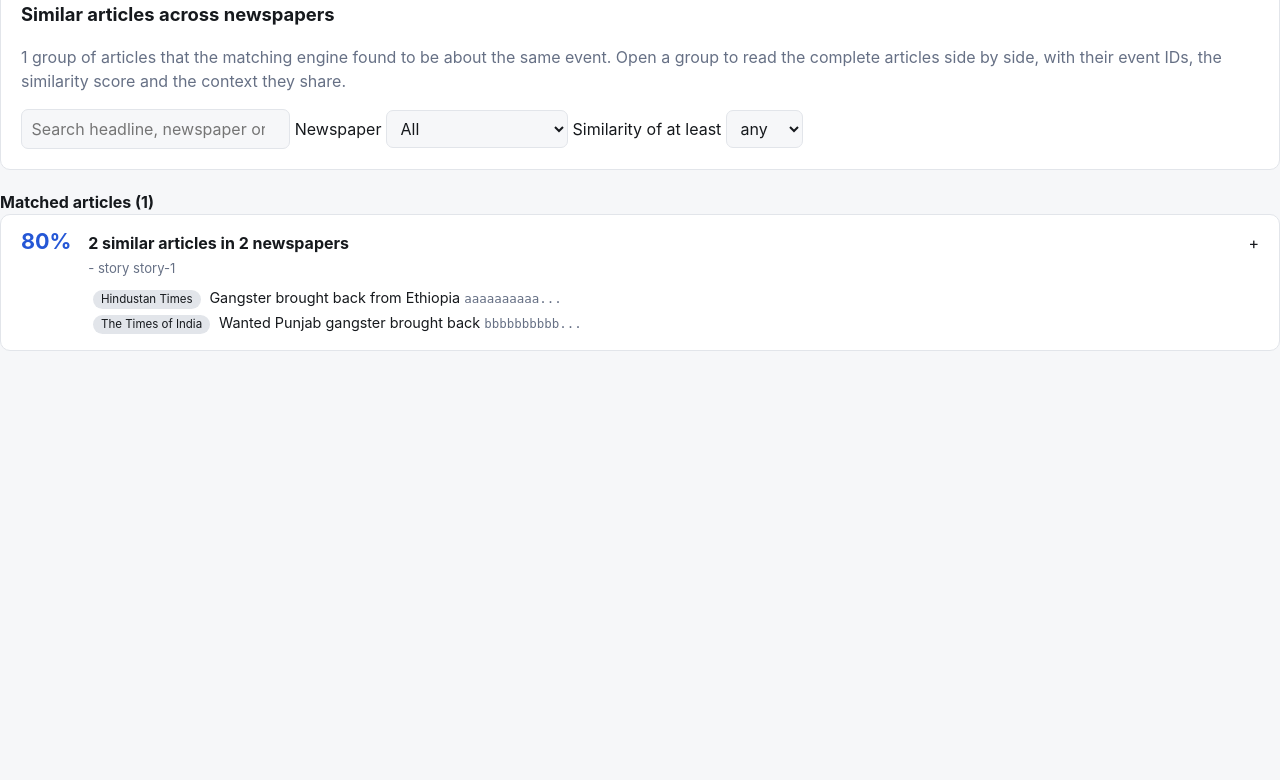
Test: SimilarArticles › opening a group shows both complete articles with their full event IDs, the score, the signals and the shared context
Step 1. Click the button "2 similar articles in 2 newspapers" → (640, 282), box [1,215,1279,350]
(page scrolled)
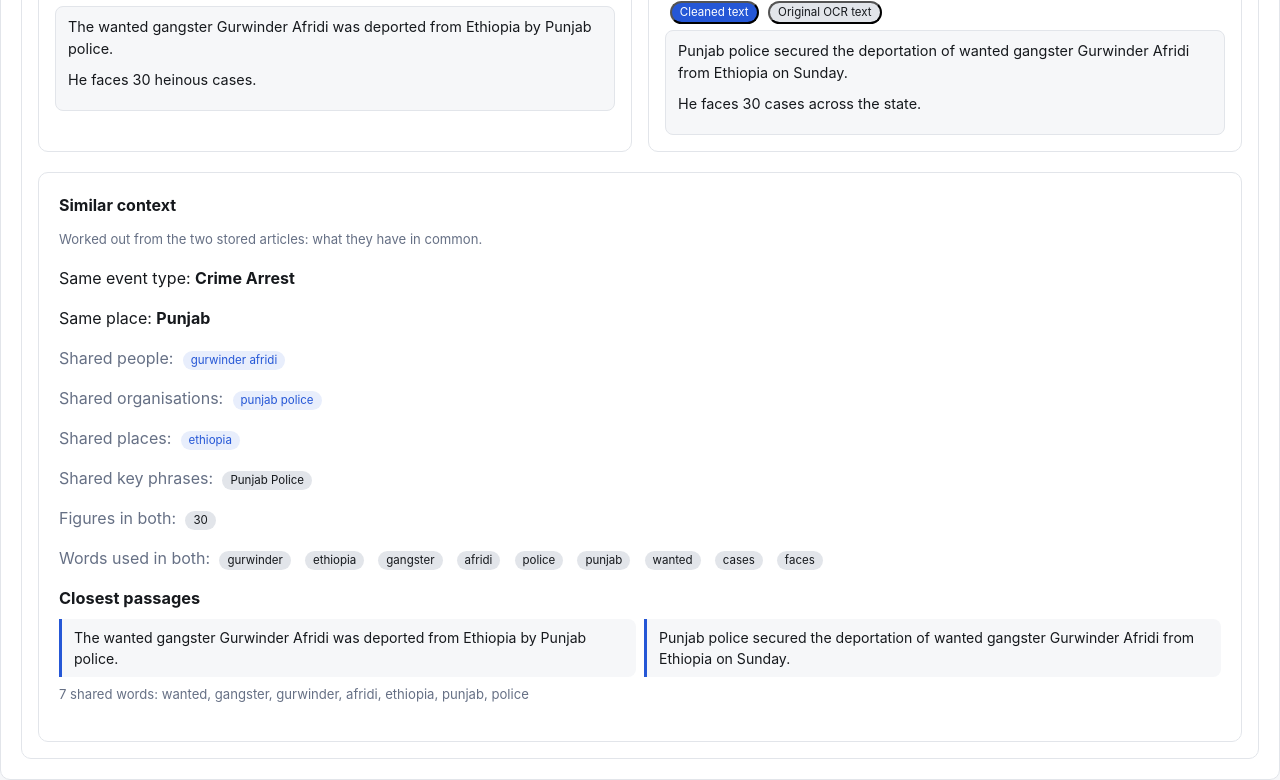
Expected: the element named "Article text" shows "He faces 30 heinous cases.", [68,71,256,88]
Expected: the element named "Article text" shows "He faces 30 cases across the state.", [678,95,921,112]
Expected: the text "Gurwinder Afridi" is shown, [183,351,285,370]
